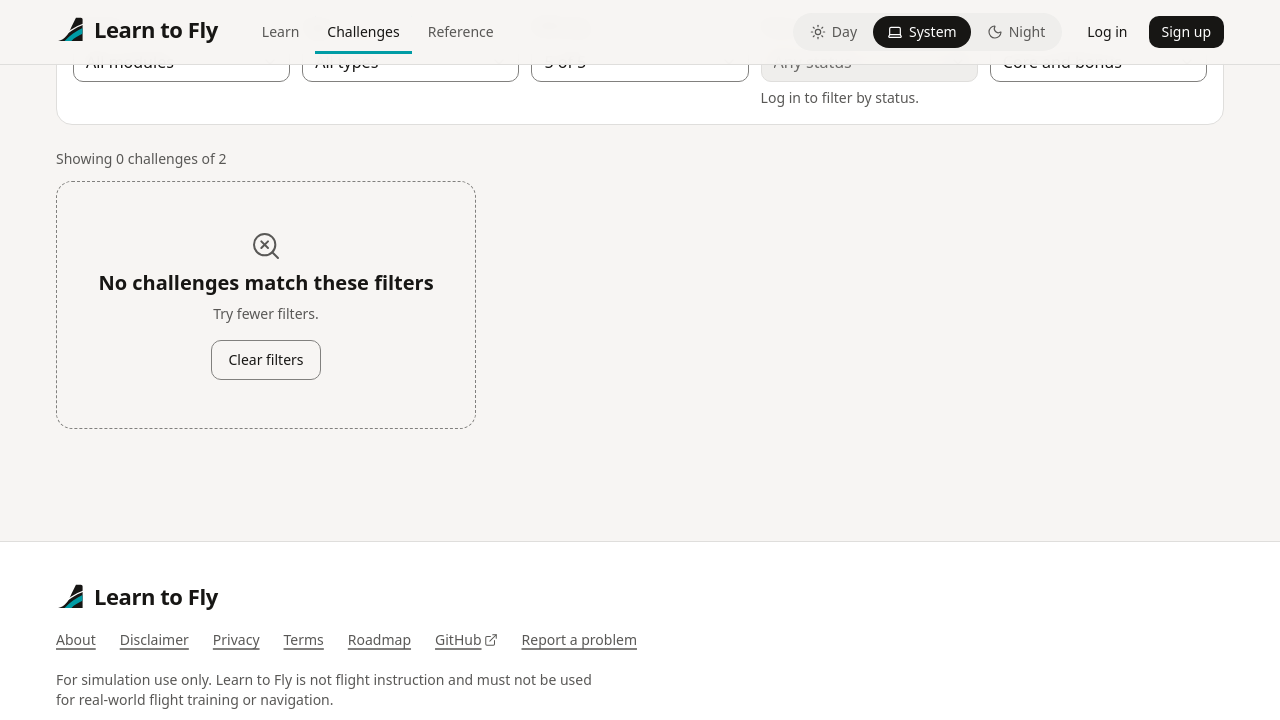
Test case: challenges list › reads filters from the URL and offers to clear them
(page scrolled)
Check: the text "No challenges match these filters" is shown, box 98,270 -> 434,296
Click the button "Clear filters": (266, 360) 211,340 -> 320,380
(page scrolled)
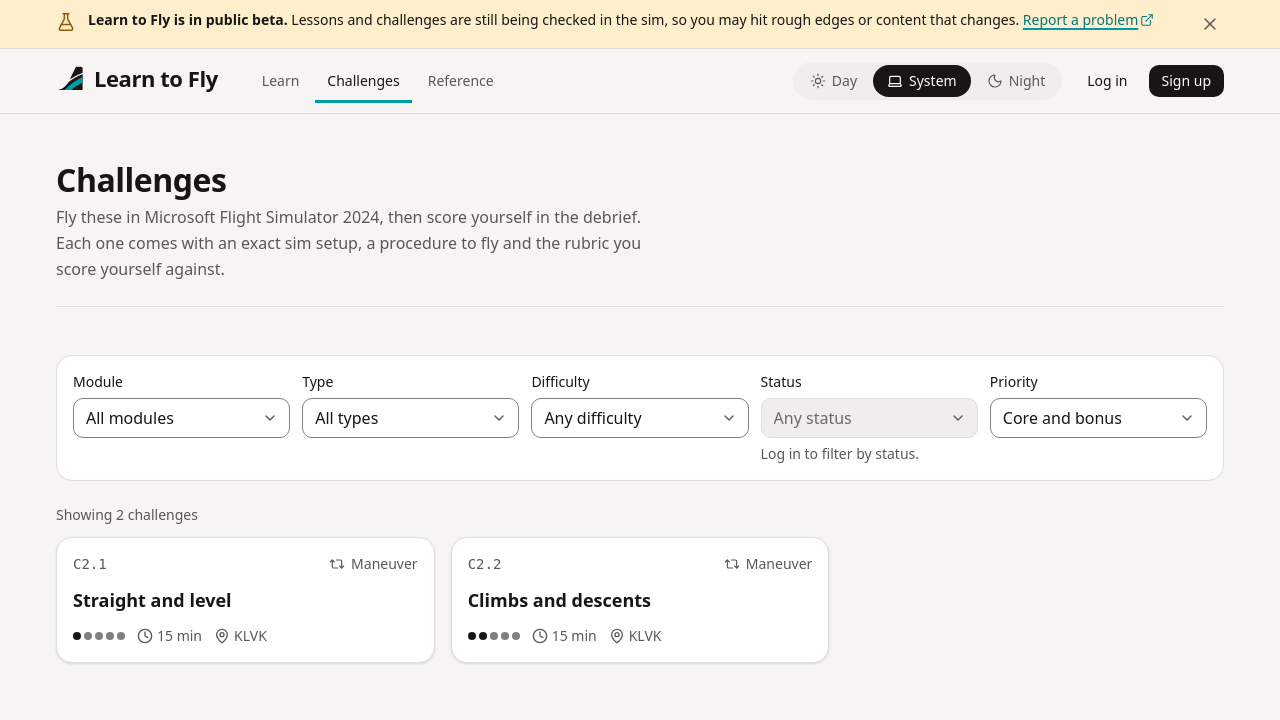
Check: the link "C2.2 Maneuver Climbs and descents 15 min KLVK" is shown, box 451,537 -> 829,663
Check: the text "Showing 2 challenges" is shown, box 56,505 -> 198,524
